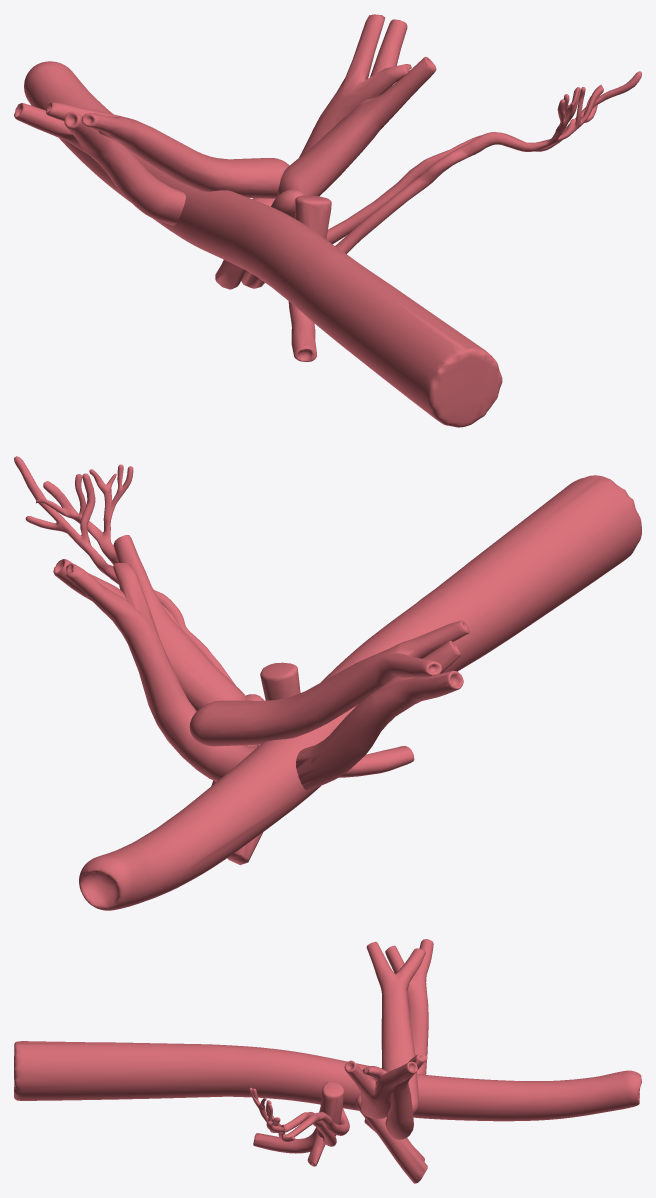
File: upperlimb__vascular.95965d4ae2.glb
3 views of the same model, one above another, from view 1: azimuth 30°, elevation 25°; view 2: azimuth 150°, elevation 25°; view 3: azimuth 270°, elevation 25° (orthographic). The views are drawn at different scales.
Visible parts, largest first — view 1: FMA10951, FMA14752, FMA14753, FMA14335, FMA14773, FMA14336, FMA14331, FMA14771, FMA50737, FMA14749, FMA14332; view 2: FMA10951, FMA14752, FMA14336, FMA14335, FMA14753, FMA14773, FMA14331, FMA14771, FMA50737; view 3: FMA10951, FMA14752, FMA14335, FMA14753, FMA14336, FMA14749, FMA14331, FMA14773, FMA14771, FMA50737.
Part boxes in pixels (box(x1,y1,x2,y2)): FMA10951: box(24, 61, 502, 427); FMA14752: box(46, 102, 289, 198); FMA14753: box(277, 19, 436, 196); FMA14335: box(14, 103, 185, 225); FMA14773: box(335, 85, 603, 253); FMA14336: box(252, 14, 411, 206); FMA14331: box(326, 71, 641, 244); FMA14771: box(288, 301, 316, 361); FMA50737: box(294, 195, 331, 239); FMA14749: box(241, 189, 304, 288); FMA14332: box(215, 260, 245, 289); FMA10951: box(79, 475, 641, 910); FMA14752: box(189, 620, 469, 746); FMA14336: box(66, 562, 256, 781); FMA14335: box(296, 640, 463, 790); FMA14753: box(53, 535, 246, 711); FMA14773: box(36, 464, 260, 744); FMA14331: box(14, 456, 181, 629); FMA14771: box(339, 746, 414, 777); FMA50737: box(260, 662, 300, 700); FMA10951: box(14, 1041, 641, 1121); FMA14752: box(366, 941, 425, 1114); FMA14335: box(385, 939, 433, 1074); FMA14753: box(344, 1060, 417, 1119); FMA14336: box(362, 1054, 427, 1139); FMA14749: box(356, 1095, 427, 1183); FMA14331: box(266, 1100, 349, 1142); FMA14773: box(249, 1087, 336, 1146); FMA14771: box(253, 1127, 316, 1153); FMA50737: box(316, 1082, 343, 1138).
Size of the model in its own units: 162 by 72.78 by 240.
